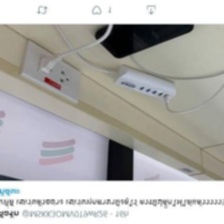three_eye_plug: (14, 38, 83, 109), (110, 62, 178, 103)
